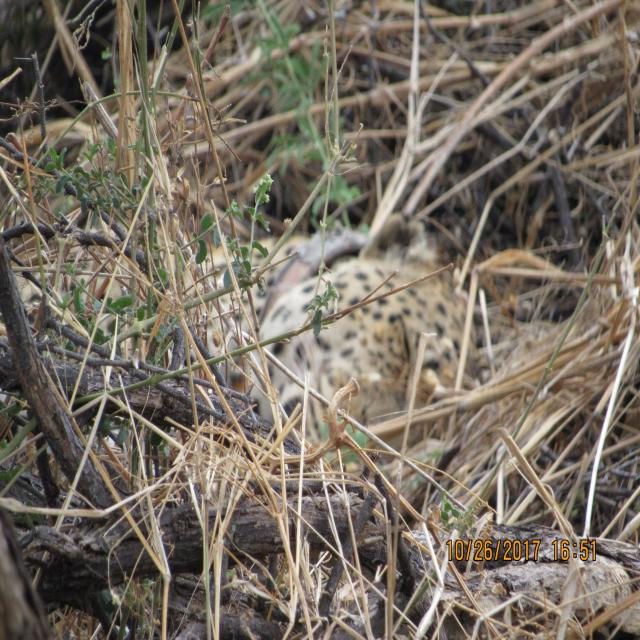Leopard: (118, 206, 508, 463)
